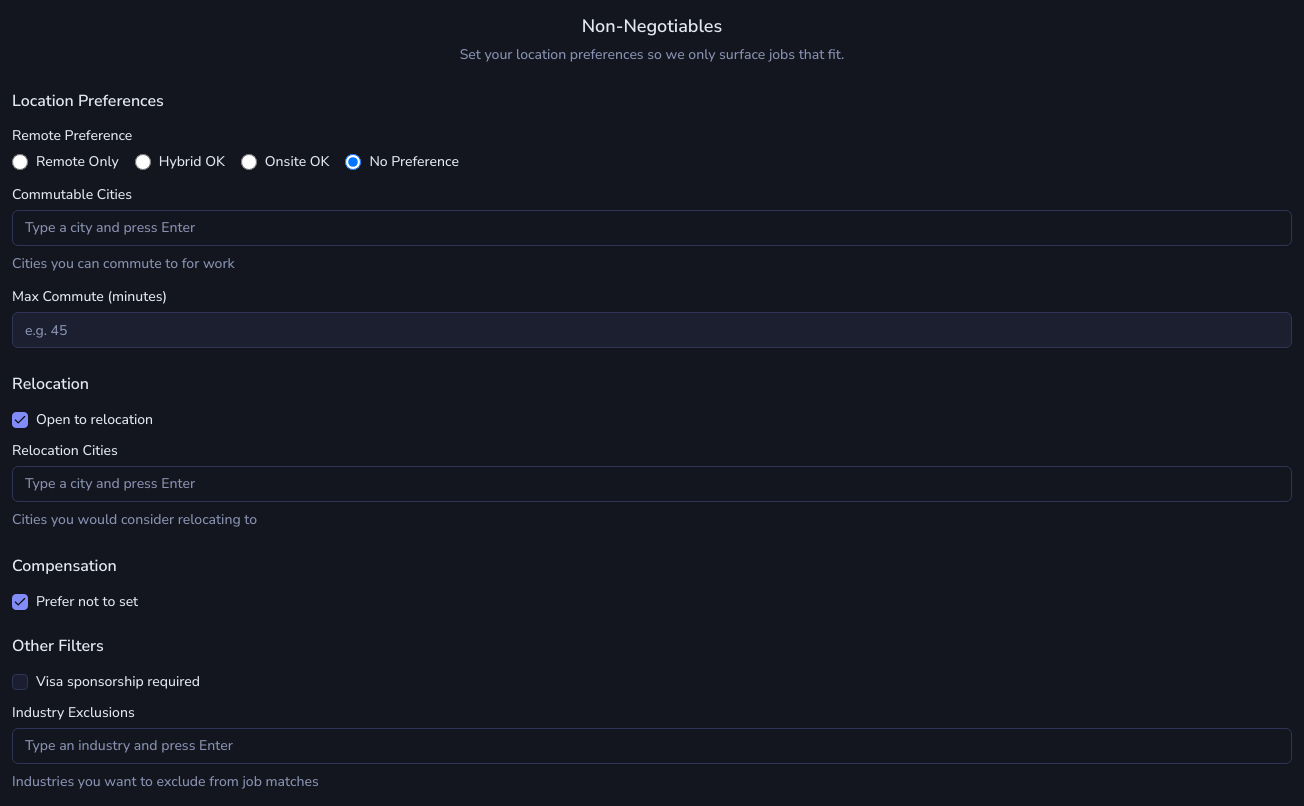
Scenario: NonNegotiablesStep › tag input interaction › adds and removes relocation cities
Type "Austin" into the field labelled "Relocation Cities" at (652, 484), box [25,474,1279,494]
Then press Enter
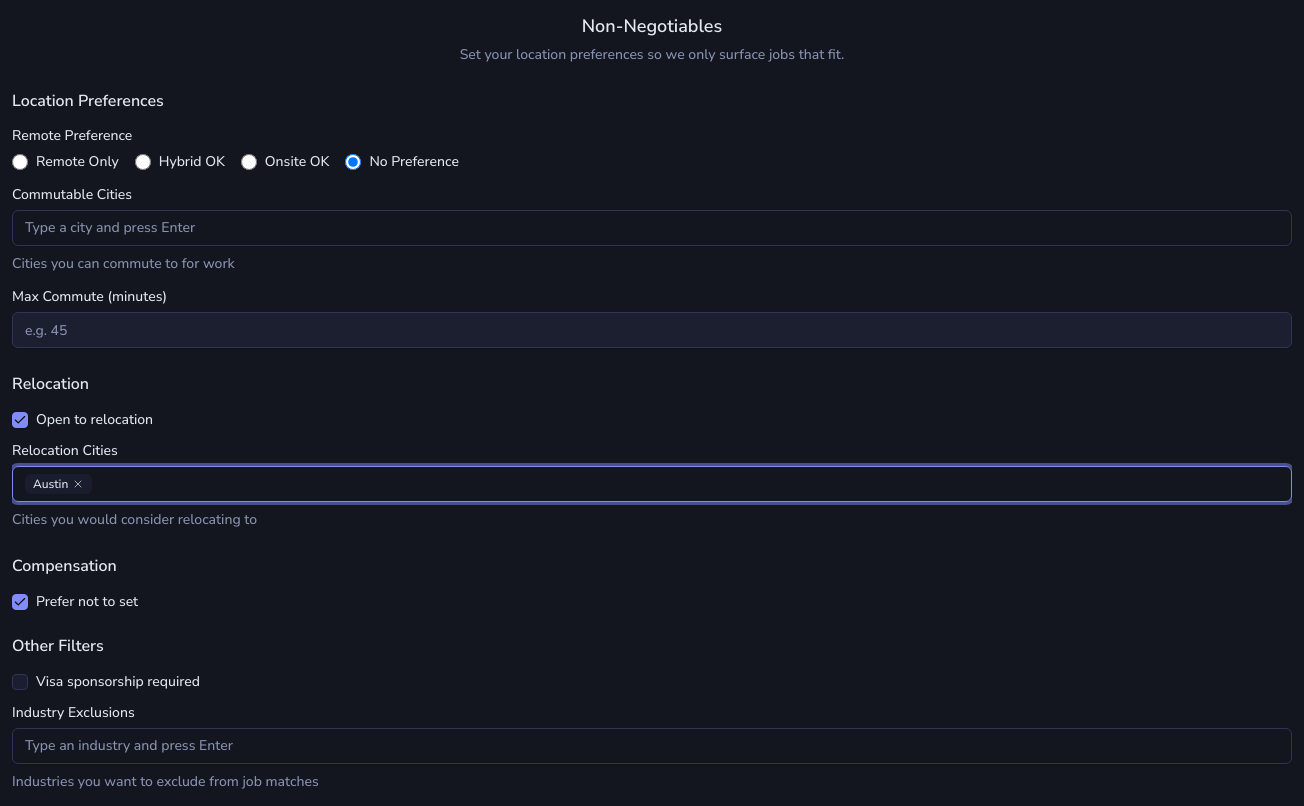
Now the text "Austin" is shown, box [25,474,92,494]
Click the button named "Remove Austin" at (78, 484), box [72,478,84,490]
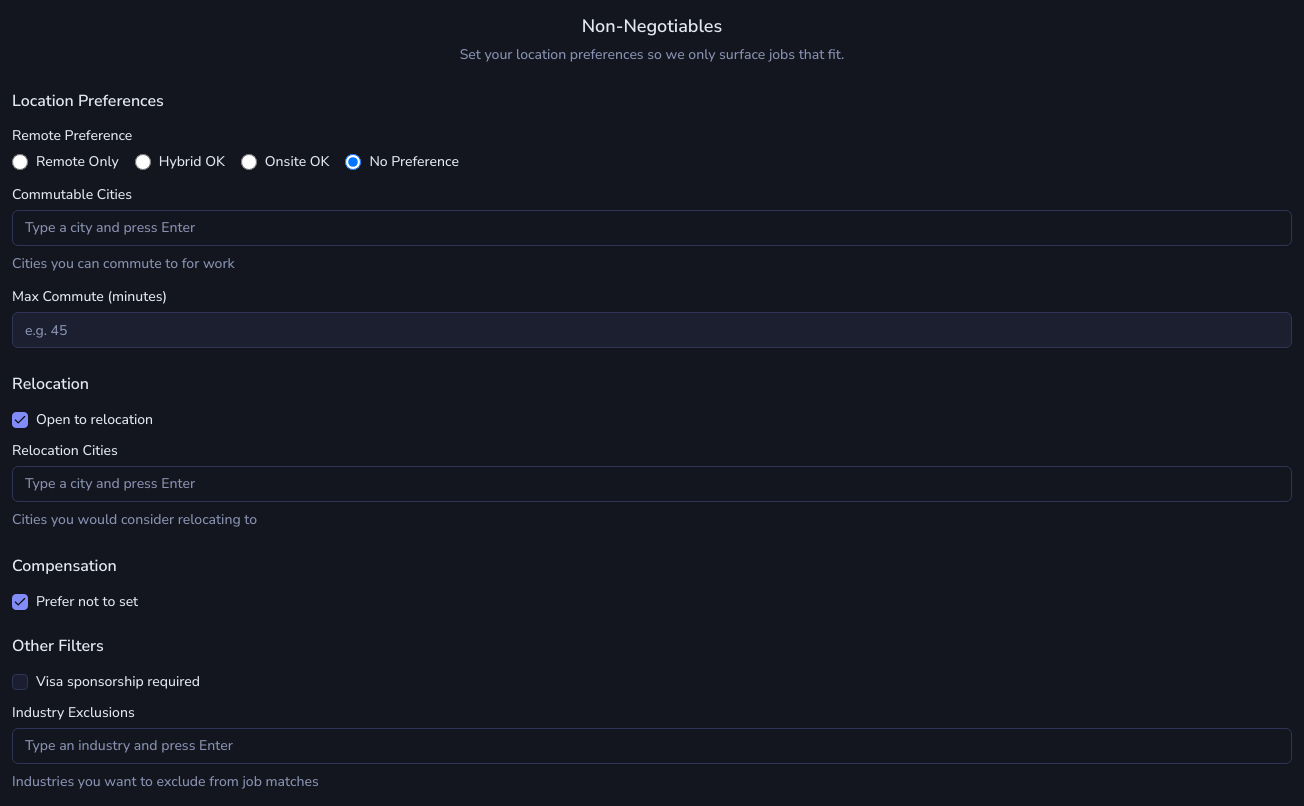
Now the text "Austin" is gone
